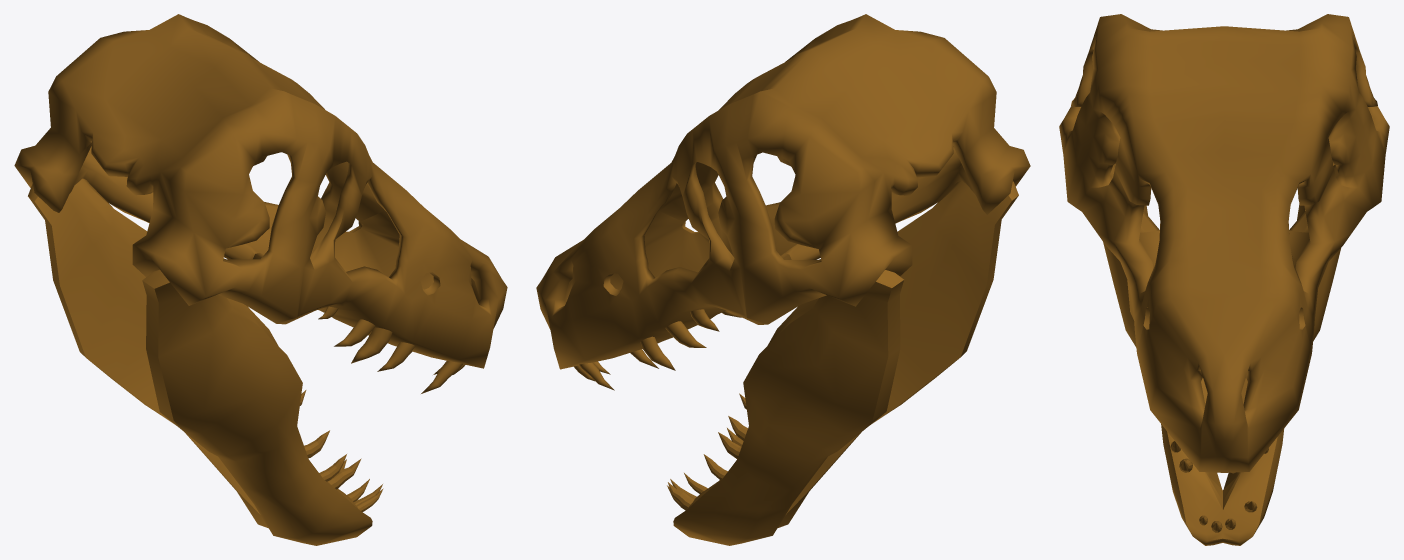
The model's file is Head_DINO.FBX.
3 views of the same model, side by side, from view 1: azimuth 30°, elevation 25°; view 2: azimuth 150°, elevation 25°; view 3: azimuth 270°, elevation 25° (orthographic). The views are drawn at different scales.
Visible parts, largest first — view 1: jaw; view 2: jaw; view 3: jaw.
Part boxes in pixels (box(x1,y1,x2,y2)): jaw: box(14, 14, 507, 545); jaw: box(536, 14, 1030, 545); jaw: box(1059, 14, 1389, 545).
Size of the model in its own units: 530 by 613 by 392.
